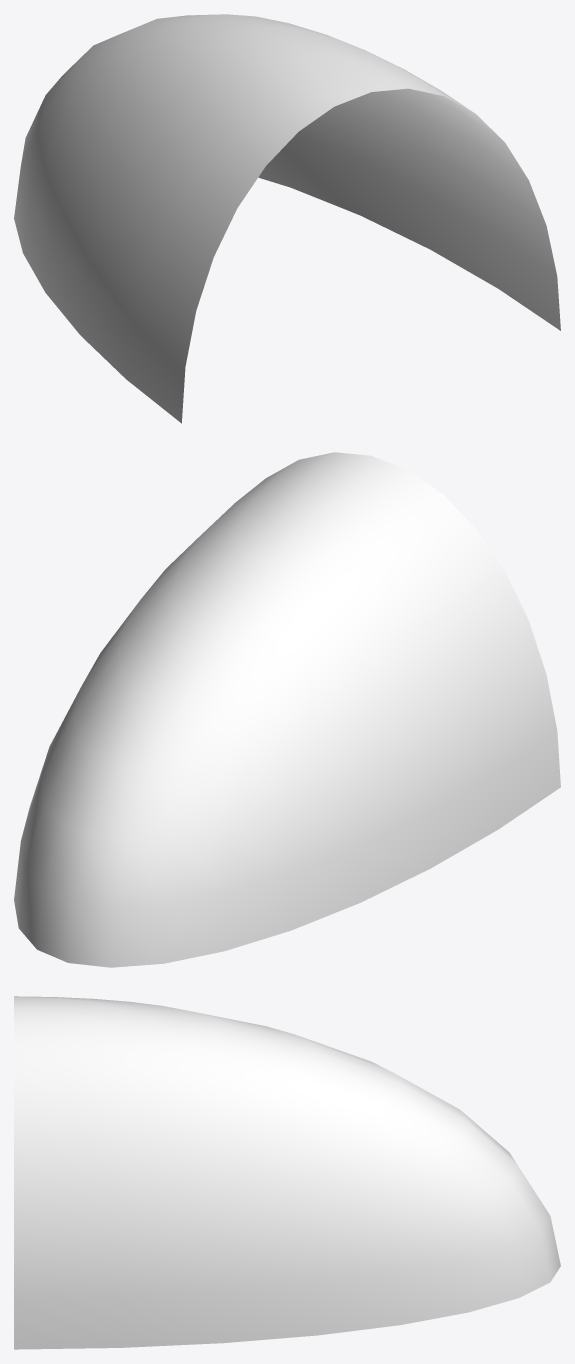
Rendered from effect.FBX.
The picture shows the model from 3 angles, top to bottom: view 1: azimuth 30°, elevation 25°; view 2: azimuth 150°, elevation 25°; view 3: azimuth 270°, elevation 25°; orthographic projection. The views are drawn at different scales.
Visible parts, largest first — view 1: Sphere001; view 2: Sphere001; view 3: Sphere001.
Part boxes in pixels (bbox=[...]): Sphere001: bbox=[14, 14, 560, 423]; Sphere001: bbox=[14, 452, 560, 967]; Sphere001: bbox=[14, 996, 560, 1349].
Bounding box in the file's own units: 71.84 × 51.65 × 99.5.
Materials: 1 (1 with a texture image).
